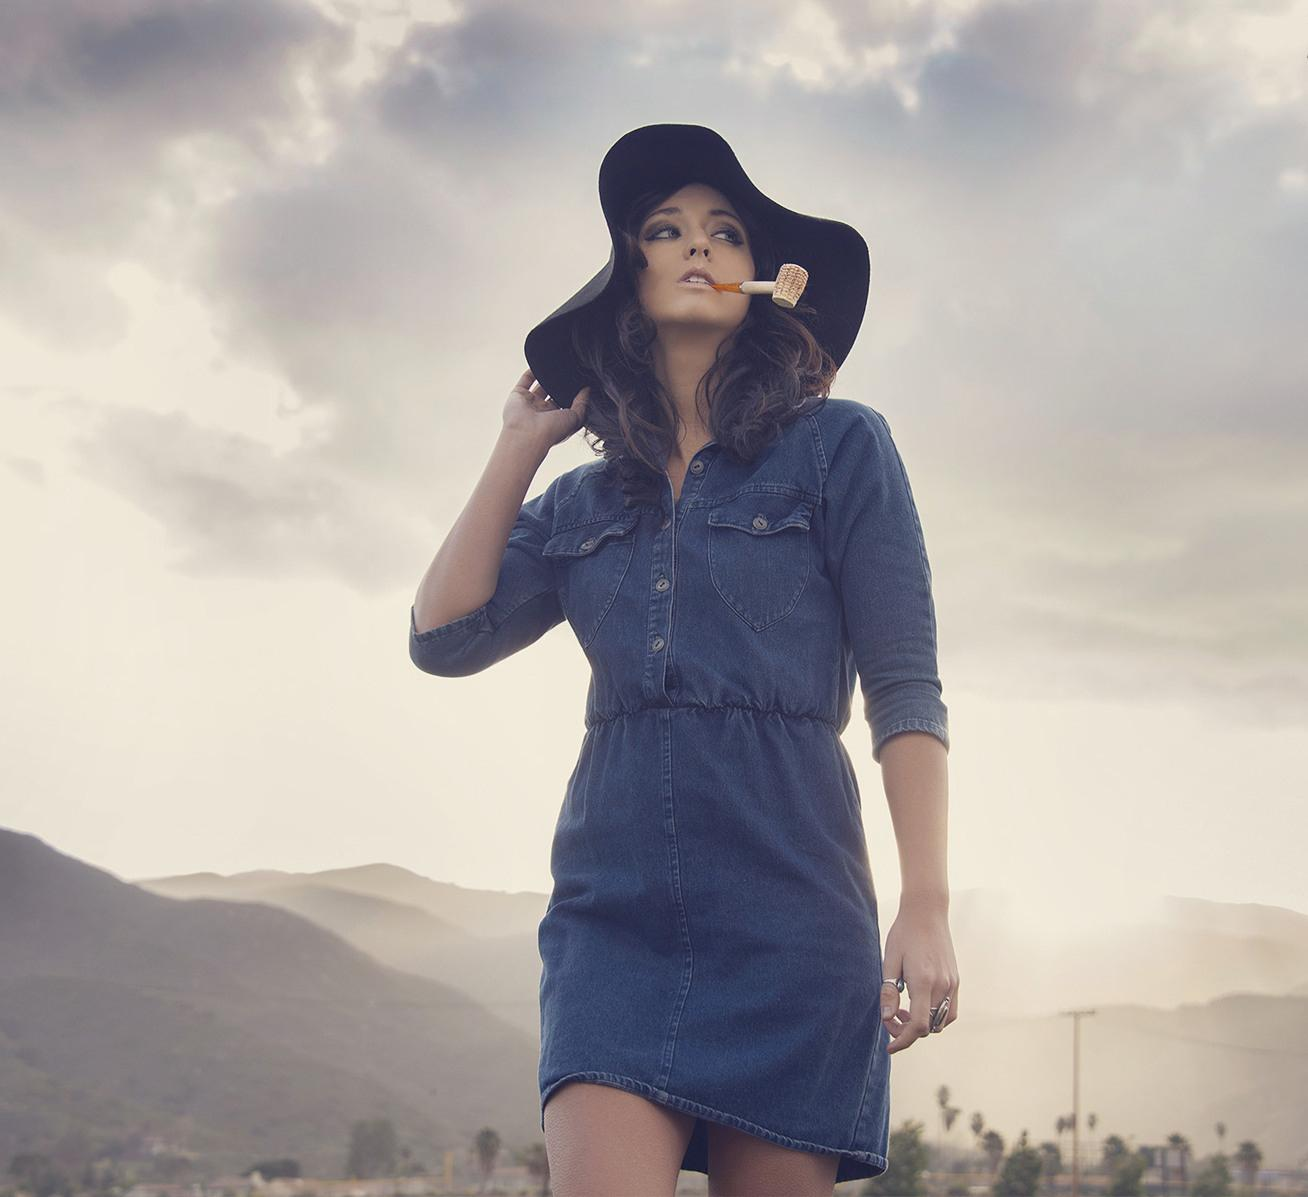trubka: (710, 263, 810, 309)
